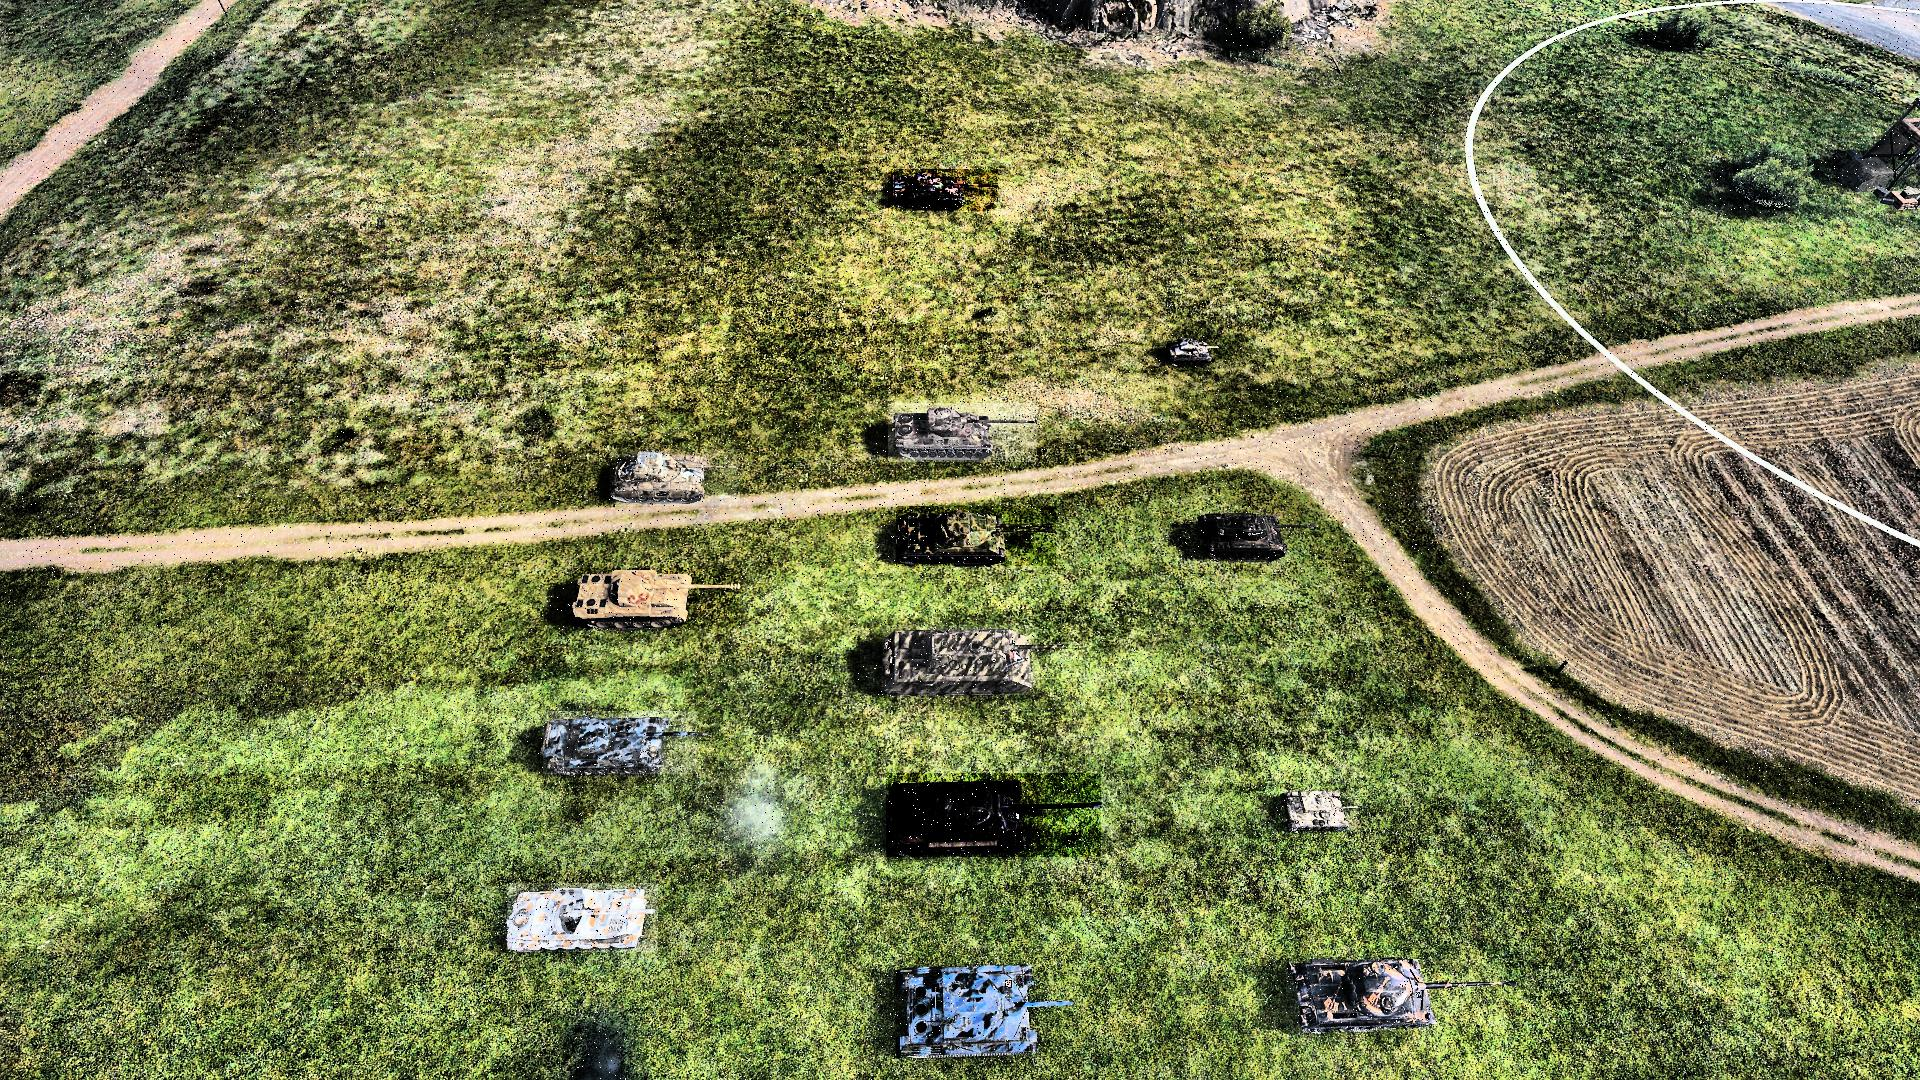military-vehicle: (886, 773, 1101, 857), (895, 967, 1072, 1058), (1287, 960, 1507, 1031), (882, 625, 1038, 695), (506, 884, 658, 952), (575, 568, 738, 628), (543, 712, 696, 775), (897, 506, 1056, 567), (889, 404, 1036, 462), (611, 450, 740, 506), (1197, 506, 1308, 558), (889, 170, 998, 212), (1283, 790, 1358, 829), (1167, 335, 1221, 368)
